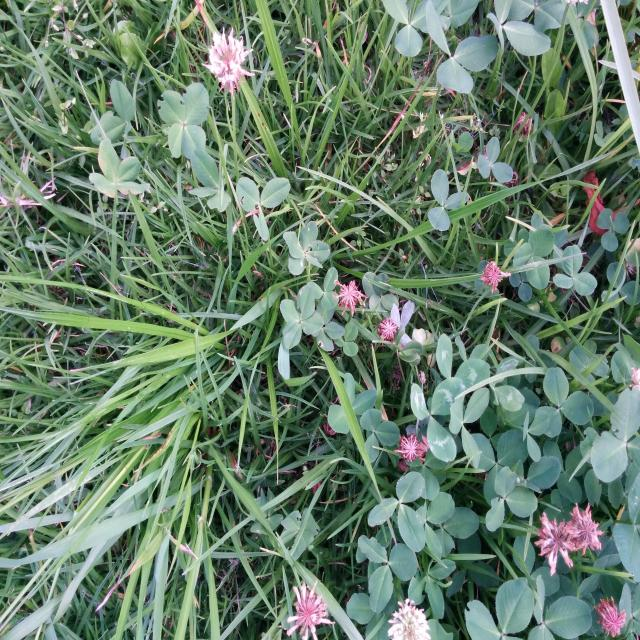Four Leaf Clover: (159, 83, 209, 158), (89, 141, 150, 195), (280, 287, 321, 347), (284, 221, 330, 269)
